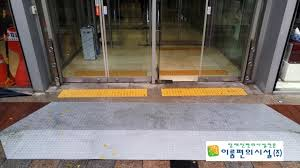guide_blocks: (59, 88, 146, 97), (162, 88, 245, 96), (162, 69, 226, 75), (75, 70, 146, 75)
